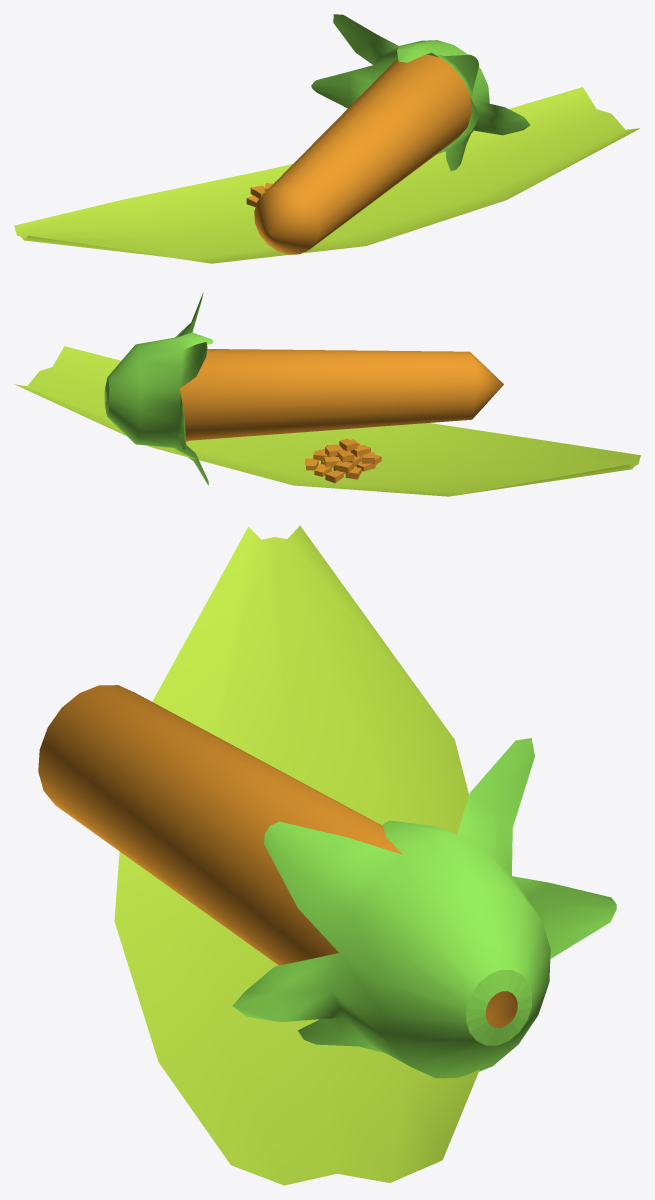
The model's file is CornCollectible.FBX.
3 renders of one model, top to bottom at view 1: azimuth 30°, elevation 25°; view 2: azimuth 150°, elevation 25°; view 3: azimuth 270°, elevation 25°, orthographic. The views are drawn at different scales.
Visible parts, largest first — view 1: CornCollectible; view 2: CornCollectible; view 3: CornCollectible.
Boxes of the visible parts, <box> form: CornCollectible: <box>14,14,639,263</box>; CornCollectible: <box>15,292,640,496</box>; CornCollectible: <box>38,525,616,1185</box>.
Size of the model in its own units: 17.16 by 4.18 by 7.39.
